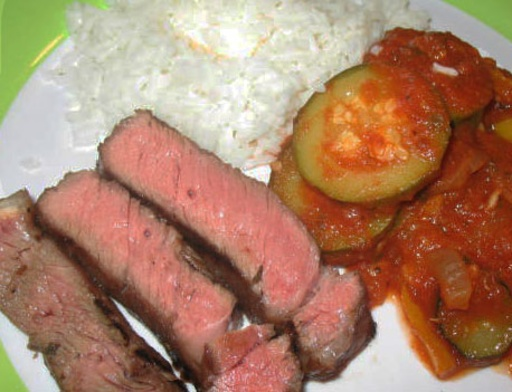background: (0, 0, 410, 240)
